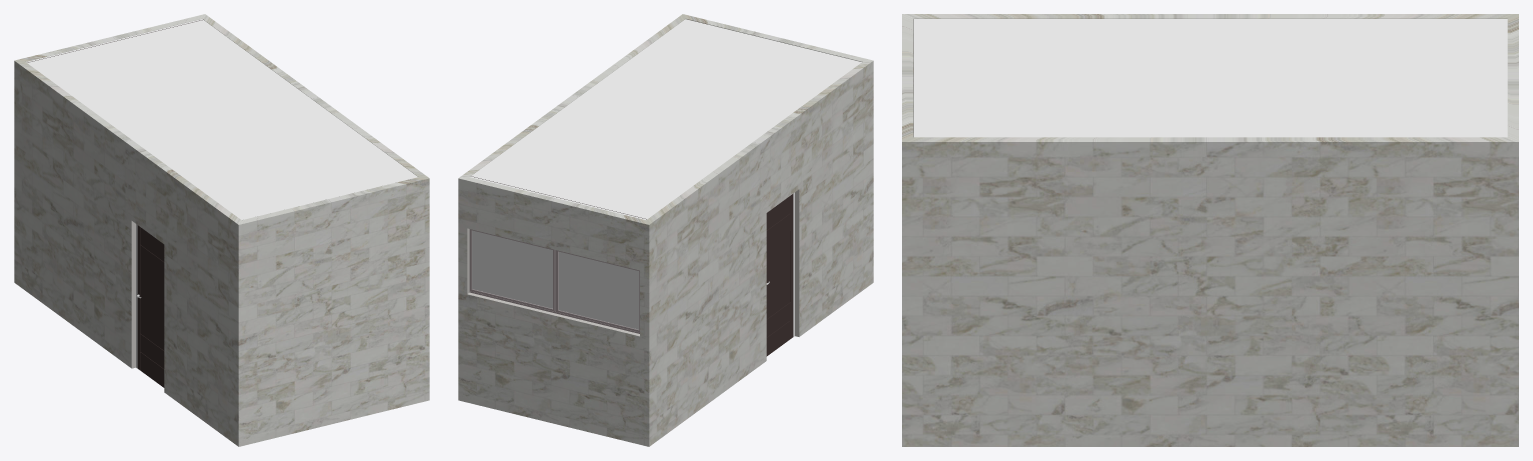
Rendered from livingroom-good-sample2.gltf.
3 renders of one model, left to right at view 1: azimuth 30°, elevation 25°; view 2: azimuth 150°, elevation 25°; view 3: azimuth 270°, elevation 25°, orthographic. The views are drawn at different scales.
Visible parts, largest first — view 1: Walls, Plane.007, Door; view 2: Walls, Plane.007, Window, Door; view 3: Walls, Plane.007.
Boxes of the visible parts, x1=… form: Walls: x1=14, y1=14, x2=429, y2=446; Plane.007: x1=26, y1=19, x2=417, y2=219; Door: x1=137, y1=225, x2=164, y2=387; Walls: x1=458, y1=14, x2=873, y2=446; Plane.007: x1=470, y1=19, x2=861, y2=219; Window: x1=469, y1=229, x2=639, y2=333; Door: x1=766, y1=194, x2=793, y2=356; Walls: x1=902, y1=14, x2=1518, y2=446; Plane.007: x1=914, y1=19, x2=1507, y2=137.
Size of the model in its own units: 5.4 by 6 by 11.
31 materials, 3 textured.
